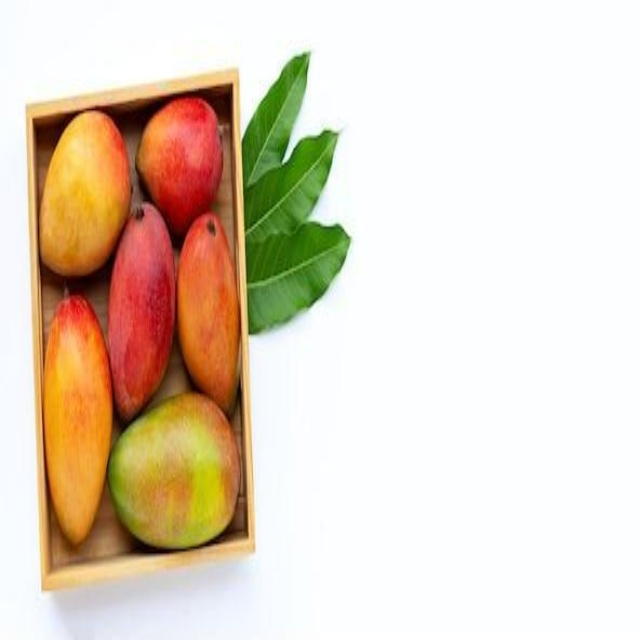mango: (102, 394, 249, 556), (37, 291, 115, 538), (36, 107, 132, 272), (105, 202, 176, 415), (180, 215, 250, 412), (136, 100, 228, 225)
